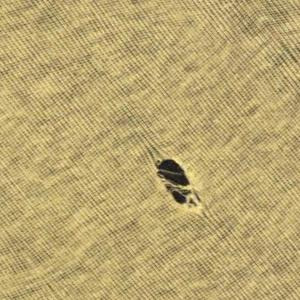hole: (151, 152, 202, 211)
